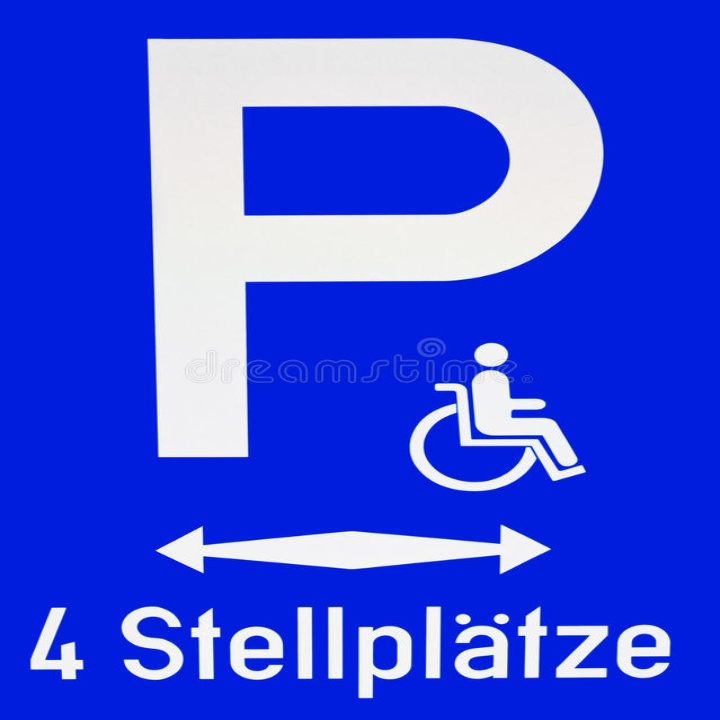parking: (139, 27, 612, 470)
